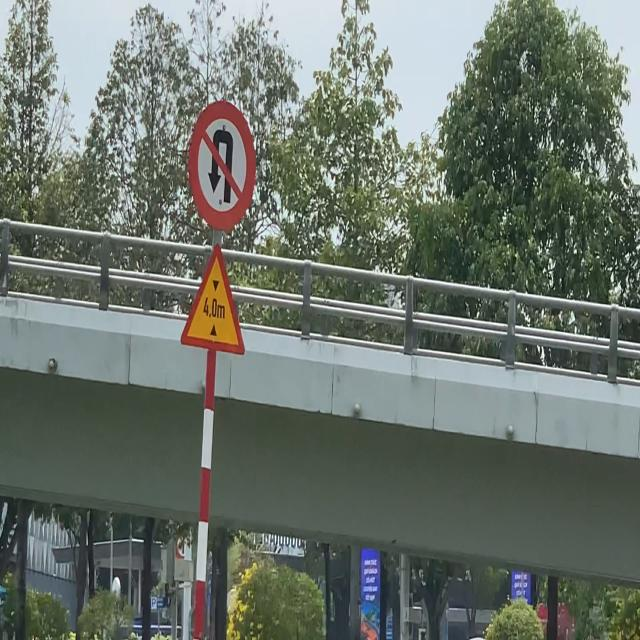Cam quay dau xe: (188, 98, 258, 230)
Nguy hiem: (180, 238, 248, 361)
